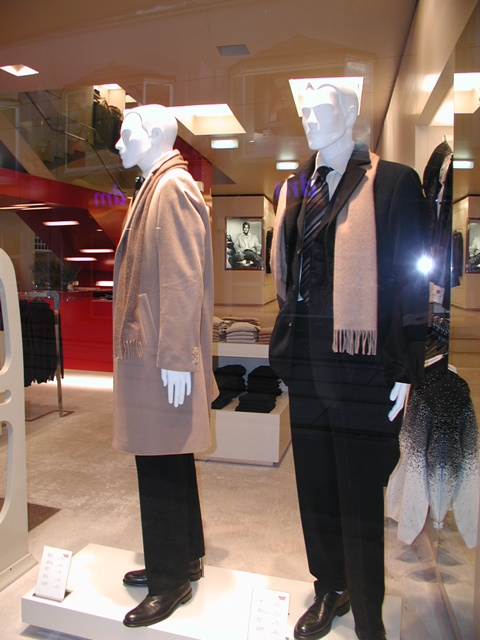person: (275, 79, 422, 637), (96, 99, 218, 630)
